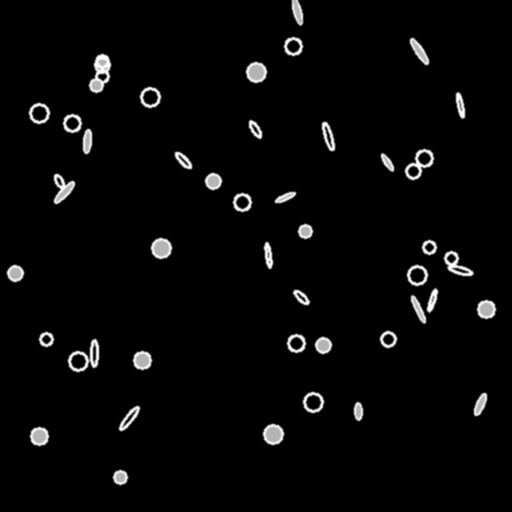pseudomonas: (408, 37, 430, 65), (52, 180, 76, 204), (118, 405, 140, 431), (410, 295, 426, 323), (321, 122, 335, 150), (472, 392, 488, 416), (290, 0, 304, 25), (292, 288, 310, 306), (174, 151, 192, 169), (447, 264, 473, 276), (426, 288, 438, 312), (380, 153, 394, 171), (248, 120, 262, 138), (275, 191, 295, 203), (455, 93, 465, 117), (90, 339, 98, 367), (264, 242, 272, 268), (53, 173, 65, 189), (83, 130, 91, 152), (354, 403, 362, 419)
synechocystis: (264, 425, 282, 443), (152, 239, 170, 257), (247, 63, 265, 81), (304, 393, 322, 411), (69, 352, 87, 370), (408, 266, 426, 284), (141, 88, 159, 106), (30, 104, 48, 122), (285, 38, 301, 54), (416, 150, 432, 166), (234, 194, 250, 210), (64, 115, 80, 131), (31, 428, 47, 444), (478, 301, 494, 317), (288, 335, 304, 351), (134, 352, 150, 368), (316, 338, 330, 352), (381, 332, 395, 346), (95, 58, 109, 72), (406, 164, 420, 178), (206, 174, 220, 188), (8, 266, 22, 280), (445, 252, 457, 264), (114, 471, 126, 483), (299, 225, 311, 237), (423, 241, 435, 253), (96, 70, 108, 82), (96, 55, 108, 67), (90, 79, 102, 91), (40, 333, 52, 345)
